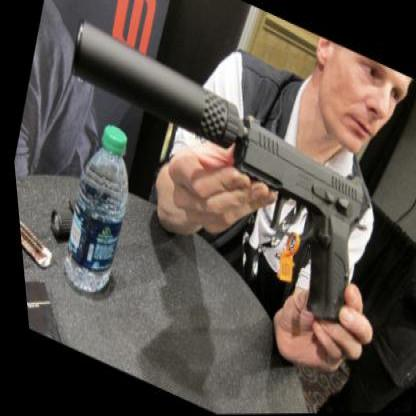pistol: (194, 111, 384, 333)
